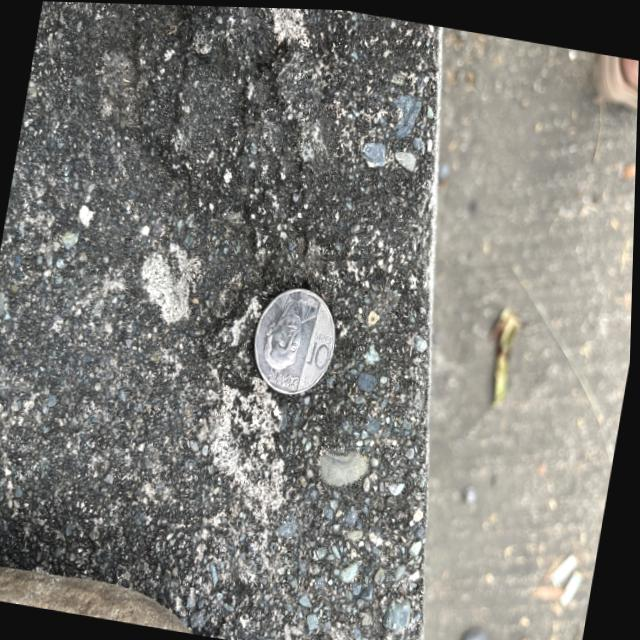10_New_Front: (296, 318, 346, 383)
